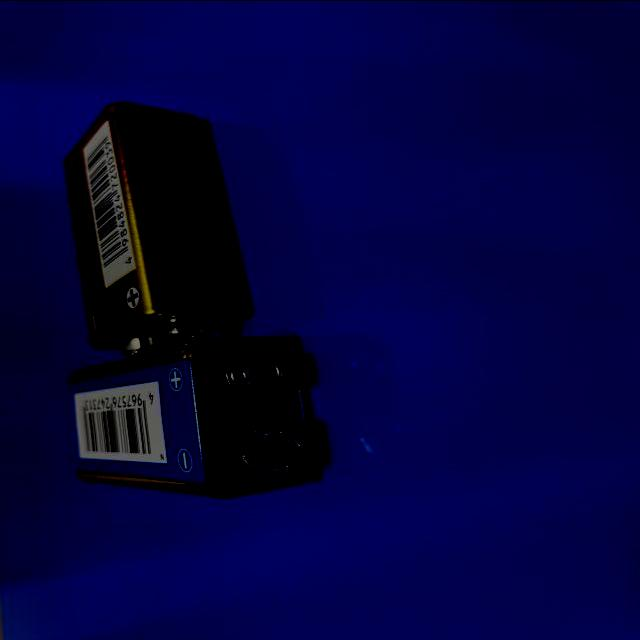9V: (62, 101, 244, 359), (67, 334, 317, 498)
